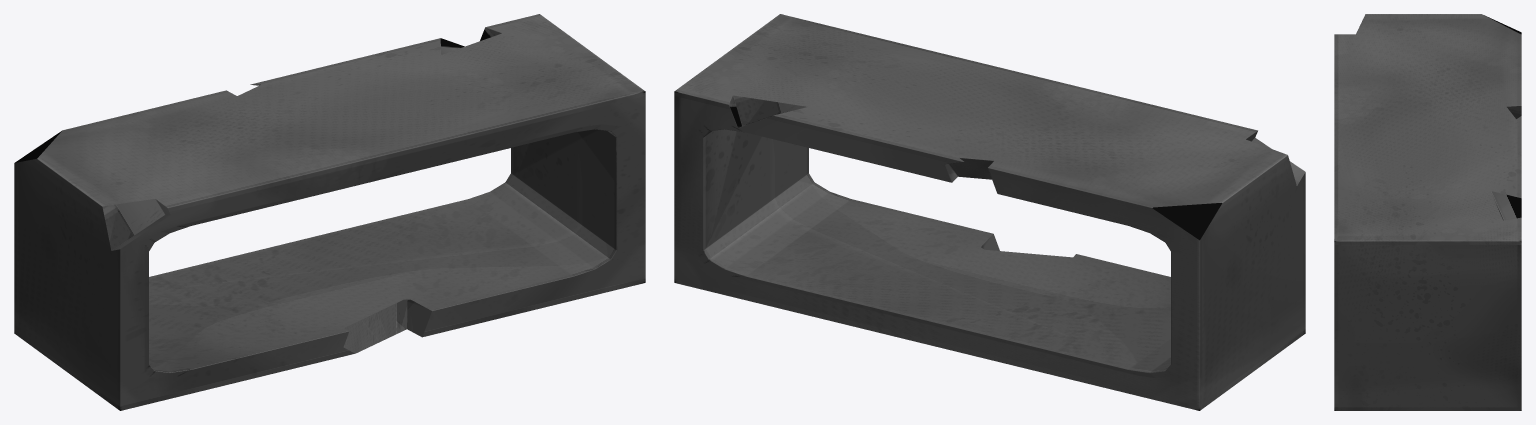
The model's file is Brick-2.fbx.
The picture shows the model from 3 angles, left to right: view 1: azimuth 30°, elevation 25°; view 2: azimuth 150°, elevation 25°; view 3: azimuth 270°, elevation 25°; orthographic projection. The views are drawn at different scales.
Parts seen in each view (by area): view 1: Brick-1.001; view 2: Brick-1.001; view 3: Brick-1.001.
Part boxes in pixels (bbox=[...]): Brick-1.001: bbox=[14, 14, 645, 410]; Brick-1.001: bbox=[674, 14, 1305, 410]; Brick-1.001: bbox=[1334, 14, 1521, 410].
Bounding box in the file's own units: 19028 × 6635 × 6635.
